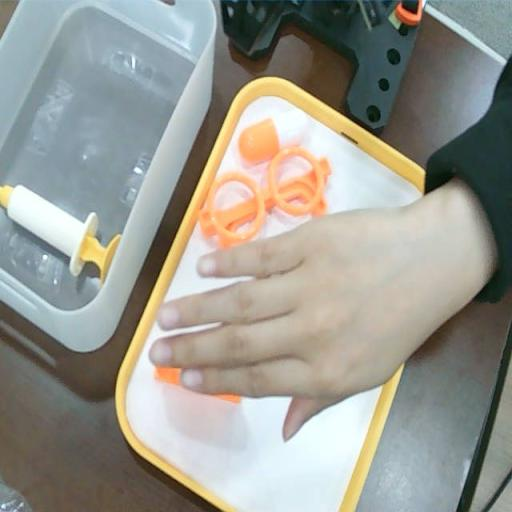hospital: (148, 173, 499, 443)
